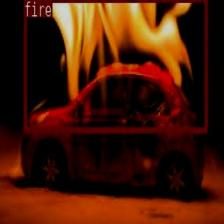fire: (22, 0, 206, 132)
